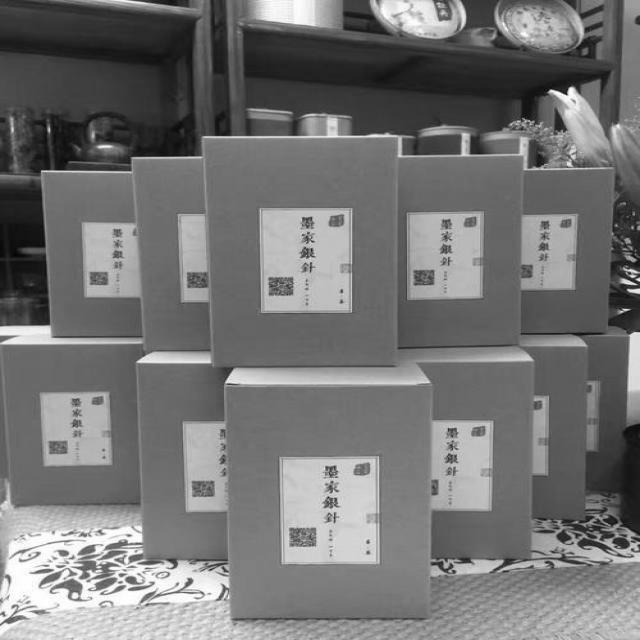box: (228, 345, 431, 621), (202, 136, 401, 368), (407, 343, 536, 560), (1, 335, 148, 506), (399, 155, 525, 346), (135, 351, 231, 561), (42, 168, 142, 336), (132, 157, 212, 352), (524, 169, 615, 335), (522, 334, 589, 521), (580, 332, 630, 491), (0, 323, 53, 343)
